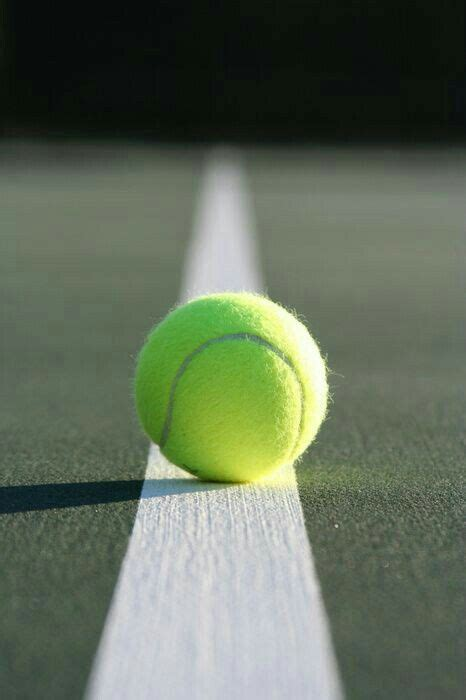tennis_ball: (131, 290, 330, 485)
